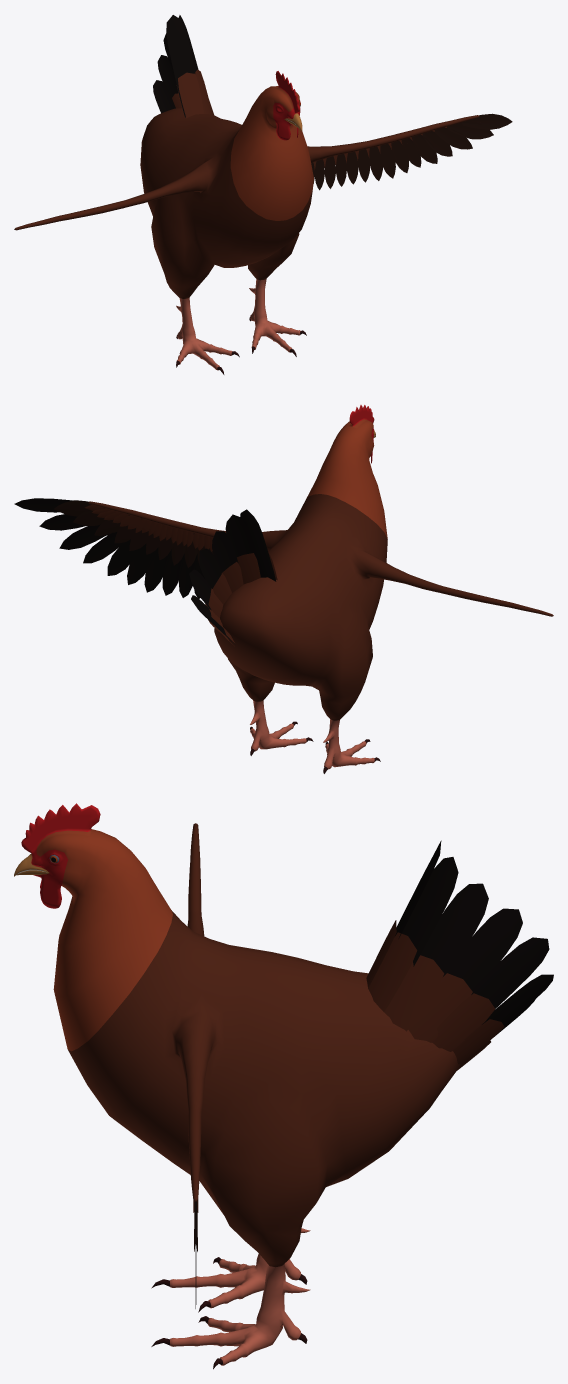
Rendered from hen.obj.
3 renders of one model, top to bottom at view 1: azimuth 30°, elevation 25°; view 2: azimuth 150°, elevation 25°; view 3: azimuth 270°, elevation 25°, orthographic. The views are drawn at different scales.
Parts seen in each view (by area): view 1: hen, feather_tail_primary_007, feather_tail_secondary_007, feather_flight_secondary_032, feather_flight_secondary_031, feather_tail_primary_002, feather_flight_secondary_030, feather_tail_primary_001; view 2: hen, feather_tail_primary_007, feather_tail_primary_006, feather_tail_primary_005, feather_flight_primary_012, feather_flight_primary_010, feather_flight_primary_011, feather_flight_primary_014, feather_flight_primary_013, feather_tail_primary_004, feather_flight_primary_009, feather_flight_primary_016 (+3 smaller); view 3: hen, feather_tail_primary_005, feather_tail_primary_004, feather_tail_primary_006, feather_tail_primary_003, feather_tail_secondary_005, feather_tail_secondary_004, feather_tail_secondary_006, feather_tail_secondary_003, feather_tail_primary_002, feather_tail_secondary_002, feather_tail_primary_007.
Boxes of the visible parts, x1=… form: hen: x1=14, y1=71, x2=479, y2=374; feather_tail_primary_007: x1=166, y1=15, x2=195, y2=117; feather_tail_secondary_007: x1=178, y1=72, x2=203, y2=117; feather_flight_secondary_032: x1=462, y1=113, x2=512, y2=129; feather_flight_secondary_031: x1=447, y1=122, x2=493, y2=139; feather_tail_primary_002: x1=157, y1=55, x2=178, y2=97; feather_flight_secondary_030: x1=434, y1=127, x2=472, y2=149; feather_tail_primary_001: x1=153, y1=80, x2=175, y2=113; hen: x1=88, y1=405, x2=553, y2=773; feather_tail_primary_007: x1=240, y1=509, x2=276, y2=581; feather_tail_primary_006: x1=225, y1=514, x2=256, y2=558; feather_tail_primary_005: x1=212, y1=531, x2=238, y2=571; feather_flight_primary_012: x1=107, y1=539, x2=142, y2=575; feather_flight_primary_010: x1=144, y1=548, x2=171, y2=592; feather_flight_primary_011: x1=127, y1=543, x2=158, y2=584; feather_flight_primary_014: x1=59, y1=524, x2=109, y2=549; feather_flight_primary_013: x1=83, y1=532, x2=124, y2=563; feather_tail_primary_004: x1=199, y1=548, x2=222, y2=589; feather_flight_primary_009: x1=162, y1=550, x2=184, y2=595; feather_flight_primary_016: x1=14, y1=498, x2=73, y2=512; hen: x1=14, y1=803, x2=459, y2=1369; feather_tail_primary_005: x1=420, y1=883, x2=488, y2=976; feather_tail_primary_004: x1=448, y1=908, x2=522, y2=989; feather_tail_primary_006: x1=401, y1=857, x2=458, y2=966; feather_tail_primary_003: x1=471, y1=937, x2=549, y2=1008; feather_tail_secondary_005: x1=384, y1=955, x2=444, y2=1031; feather_tail_secondary_004: x1=408, y1=973, x2=472, y2=1042; feather_tail_secondary_006: x1=368, y1=932, x2=417, y2=1011; feather_tail_secondary_003: x1=432, y1=993, x2=495, y2=1051; feather_tail_primary_002: x1=482, y1=974, x2=553, y2=1025; feather_tail_secondary_002: x1=452, y1=1019, x2=504, y2=1064; feather_tail_primary_007: x1=395, y1=840, x2=441, y2=938.
Size of the model in its own units: 0.7659 by 0.4204 by 0.3996.
